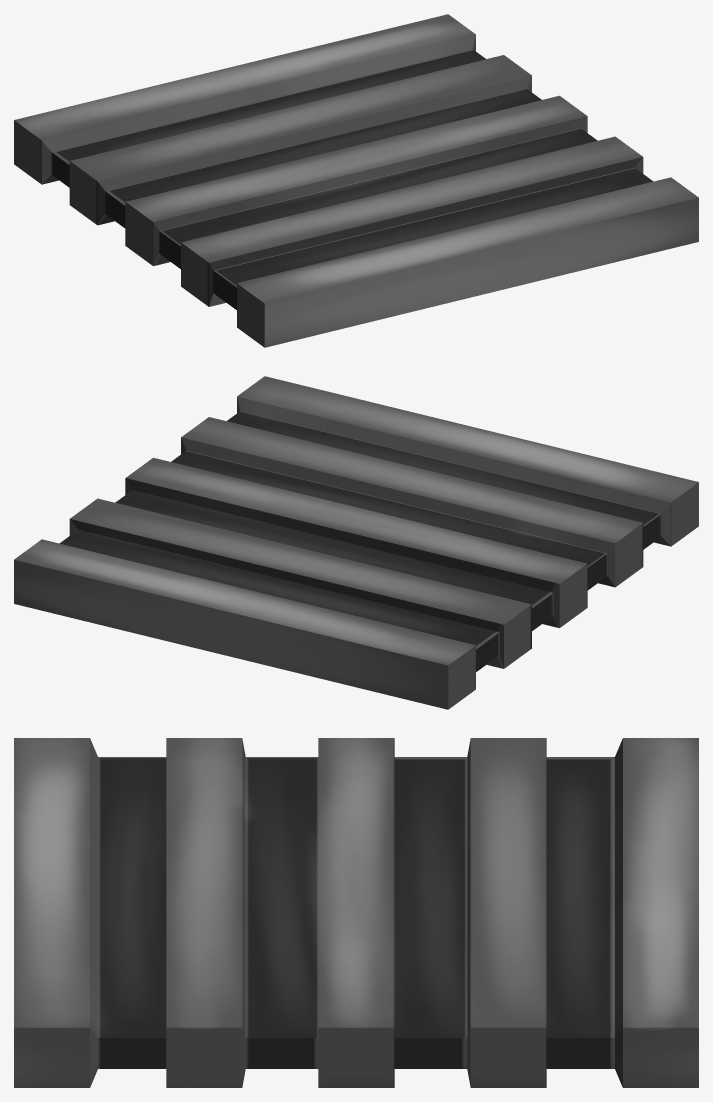
The model's file is Palette.fbx.
The picture shows the model from 3 angles, top to bottom: view 1: azimuth 30°, elevation 25°; view 2: azimuth 150°, elevation 25°; view 3: azimuth 270°, elevation 25°; orthographic projection. The views are drawn at different scales.
Parts seen in each view (by area): view 1: Cube.007; view 2: Cube.007; view 3: Cube.007.
Part boxes in pixels (x1=…): Cube.007: x1=14, y1=14, x2=698, y2=347; Cube.007: x1=14, y1=376, x2=698, y2=709; Cube.007: x1=14, y1=738, x2=698, y2=1087.
Bounding box in the file's own units: 200 × 19.46 × 200.
